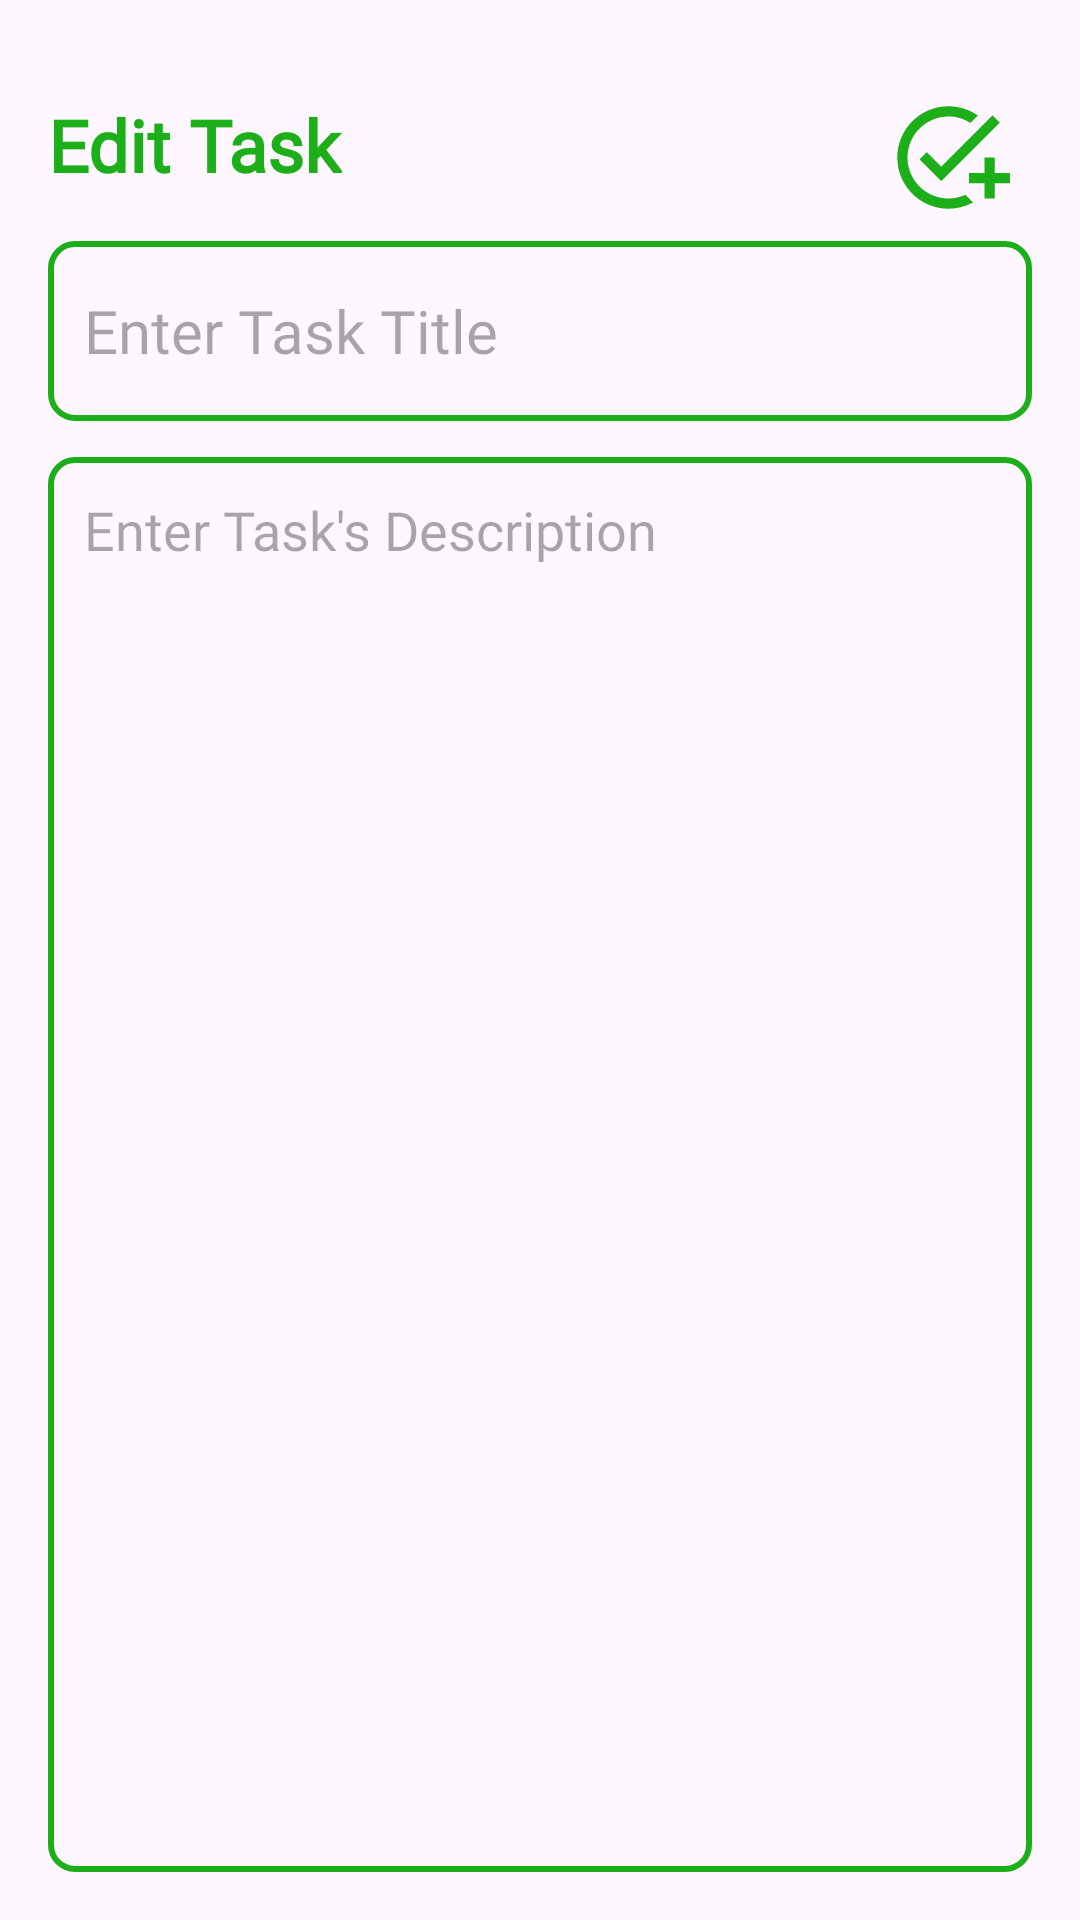

Screen size 1080px×1920px. Icon name, then its center in pixels as (x,y):
add task: (953,157)
